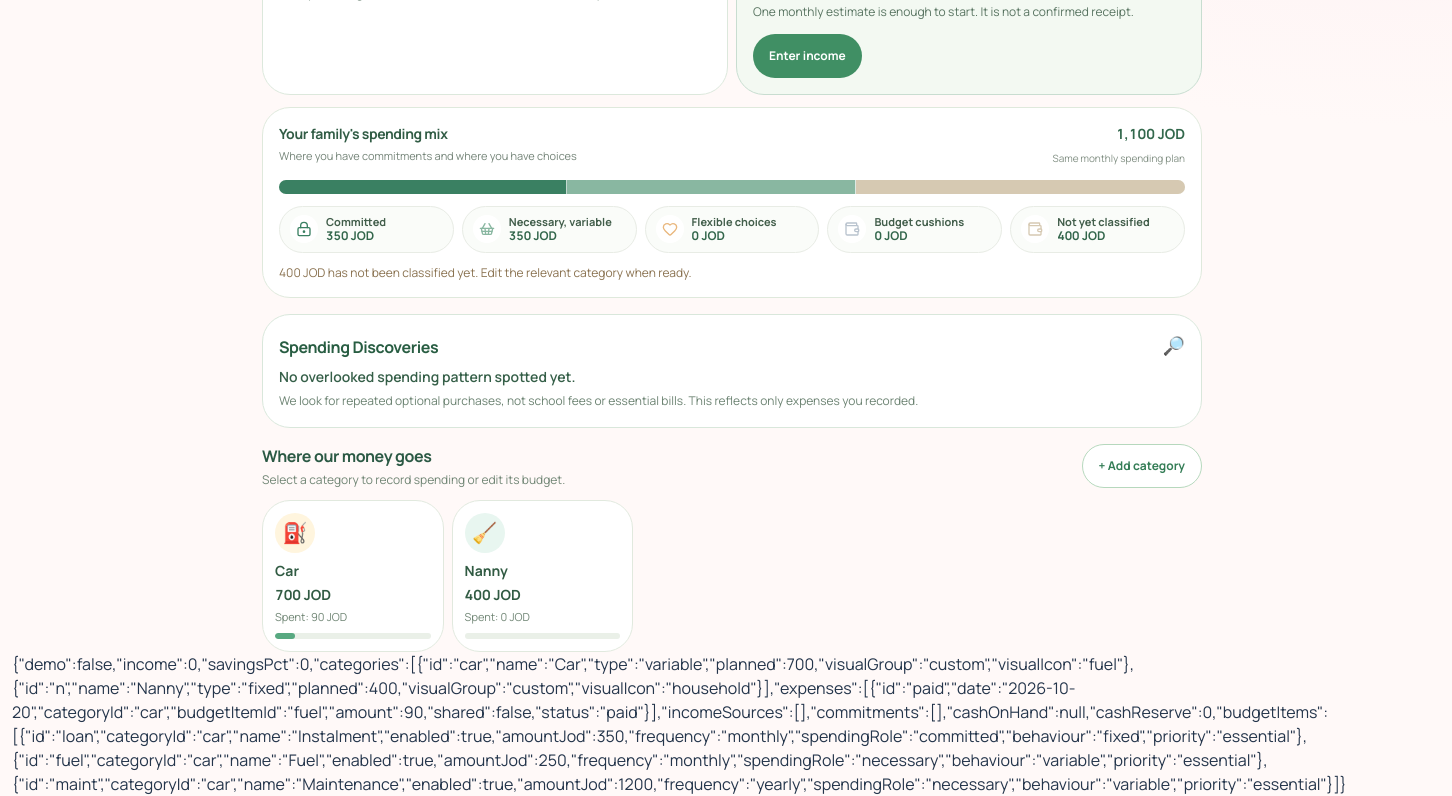
A family-first Money page using the same classified financial records › opens only the selected category and exposes budget, spent and the two primary actions
(page scrolled)
Click the button with test id "category-custom-car" at (353, 576), box x1=262 y1=500 x2=444 y2=652
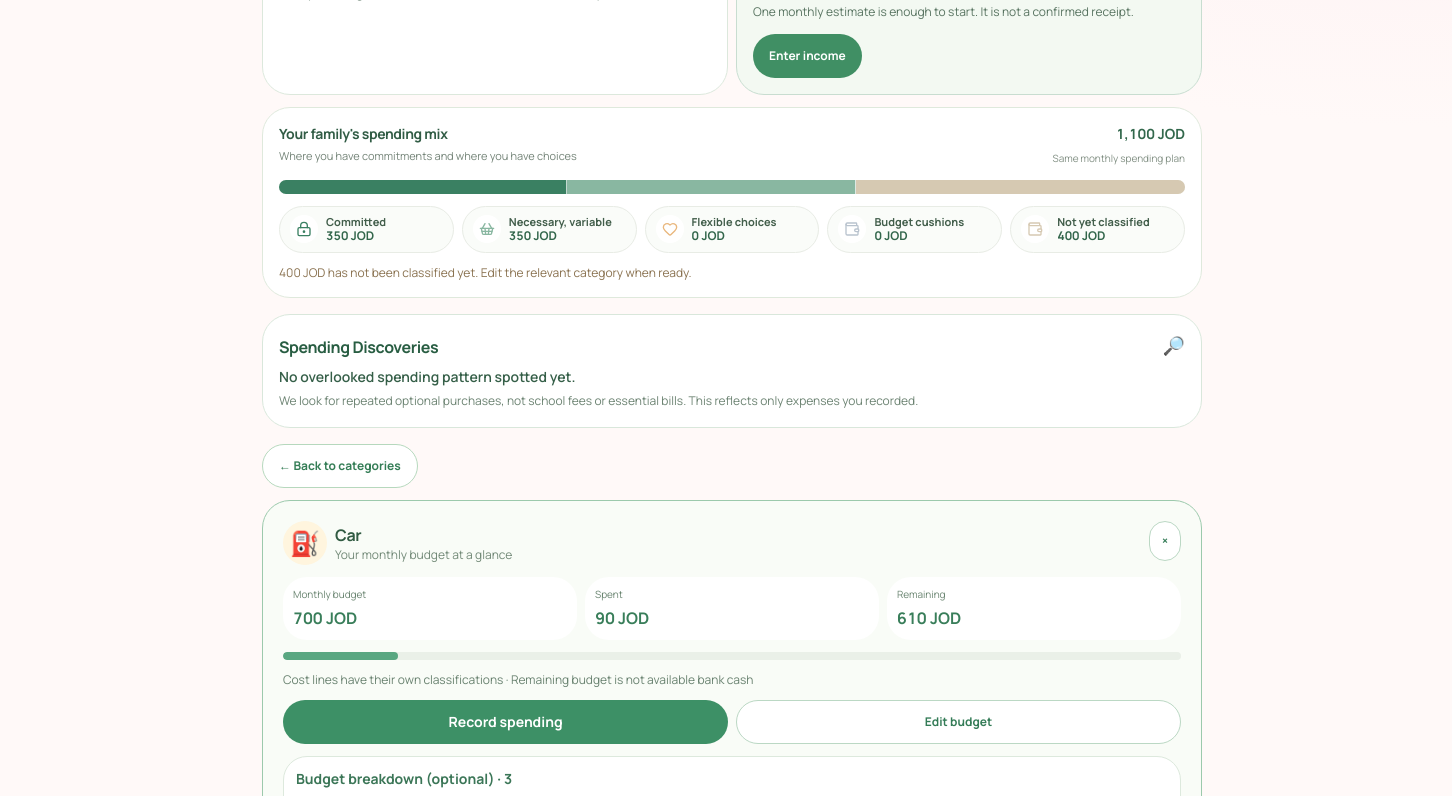
Expected: the element with test id "unified-category-details" shows "Car", x1=335 y1=524 x2=361 y2=546
Expected: the element with test id "unified-category-details" shows "monthly budget", x1=293 y1=587 x2=366 y2=601
Expected: the element with test id "unified-category-details" shows "Spent", x1=595 y1=587 x2=623 y2=601
Click the button "← Back to categories" at (340, 466), box x1=262 y1=444 x2=418 y2=488
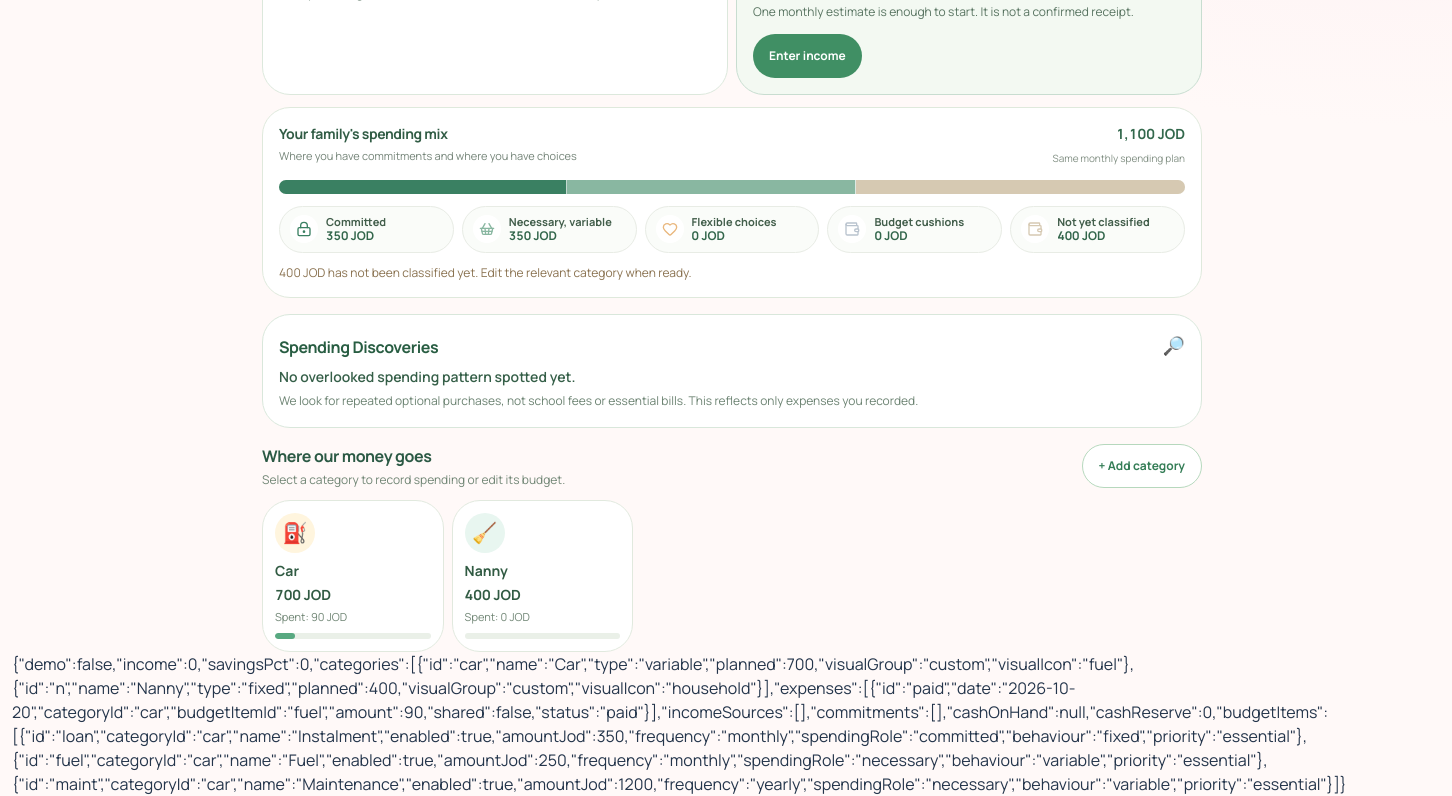
Expected: the button with test id "category-custom-n" is shown, x1=452 y1=500 x2=633 y2=652
